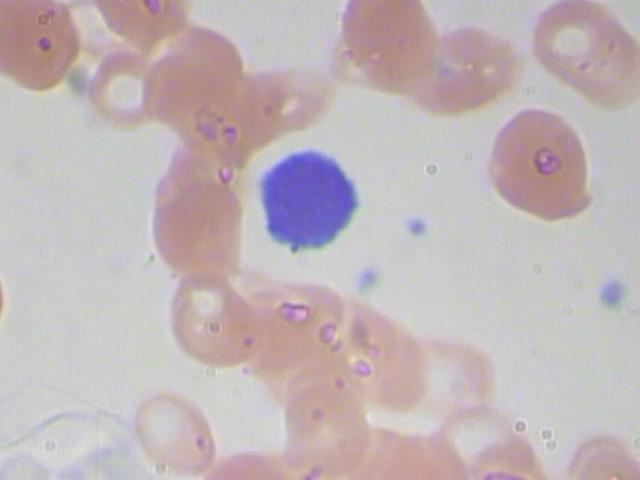Platelets: (600, 277, 628, 311), (400, 214, 433, 242), (349, 263, 382, 291)
RBC: (477, 102, 608, 230), (245, 268, 350, 375), (304, 298, 408, 405), (392, 318, 501, 419), (155, 273, 263, 373), (414, 25, 530, 117), (326, 1, 441, 92), (145, 177, 248, 276), (134, 379, 224, 480), (281, 379, 371, 480), (248, 51, 344, 142), (173, 75, 269, 166), (545, 25, 639, 115), (526, 1, 621, 90), (0, 1, 87, 96), (80, 47, 162, 136), (94, 1, 200, 45)
WBC: (257, 147, 362, 259)
